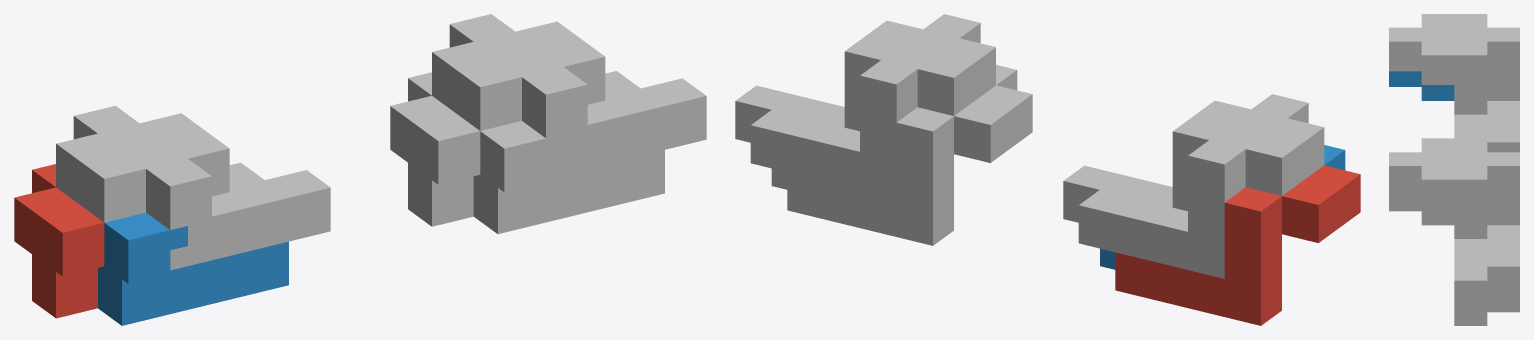
The model's file is tiling.obj.
3 views of the same model, side by side, from view 1: azimuth 30°, elevation 25°; view 2: azimuth 150°, elevation 25°; view 3: azimuth 270°, elevation 25° (orthographic). The views are drawn at different scales.
Visible parts, largest first — view 1: copy_1_domain_8, copy_1_domain_4, copy_1_domain_6, copy_1_domain_2, copy_1_domain_1, copy_1_domain_5, copy_1_domain_3, copy_1_domain_7; view 2: copy_1_domain_3, copy_1_domain_7, copy_1_domain_5, copy_1_domain_1, copy_1_domain_8, copy_1_domain_4, copy_1_domain_6, copy_1_domain_2; view 3: copy_1_domain_8, copy_1_domain_4, copy_1_domain_7, copy_1_domain_3, copy_1_domain_6, copy_1_domain_2, copy_1_domain_5.
Part boxes in pixels (left/top/right/bottom): copy_1_domain_8: left=498, top=21, right=706, bottom=178; copy_1_domain_4: left=122, top=113, right=330, bottom=270; copy_1_domain_6: left=473, top=121, right=664, bottom=233; copy_1_domain_2: left=98, top=212, right=288, bottom=325; copy_1_domain_1: left=14, top=164, right=104, bottom=318; copy_1_domain_5: left=390, top=72, right=480, bottom=226; copy_1_domain_3: left=56, top=105, right=264, bottom=222; copy_1_domain_7: left=432, top=14, right=640, bottom=130; copy_1_domain_3: left=1078, top=118, right=1324, bottom=278; copy_1_domain_7: left=750, top=38, right=995, bottom=198; copy_1_domain_5: left=787, top=85, right=1032, bottom=245; copy_1_domain_1: left=1115, top=165, right=1360, bottom=325; copy_1_domain_8: left=735, top=14, right=980, bottom=142; copy_1_domain_4: left=1063, top=94, right=1308, bottom=222; copy_1_domain_6: left=771, top=65, right=1017, bottom=189; copy_1_domain_2: left=1100, top=145, right=1345, bottom=269; copy_1_domain_8: left=1389, top=152, right=1487, bottom=310; copy_1_domain_4: left=1389, top=27, right=1487, bottom=138; copy_1_domain_7: left=1421, top=138, right=1519, bottom=296; copy_1_domain_3: left=1421, top=14, right=1519, bottom=152; copy_1_domain_6: left=1389, top=195, right=1487, bottom=325; copy_1_domain_2: left=1389, top=71, right=1454, bottom=100; copy_1_domain_5: left=1487, top=296, right=1519, bottom=312.
Bounding box in the file's own units: 16 × 4 × 4.
